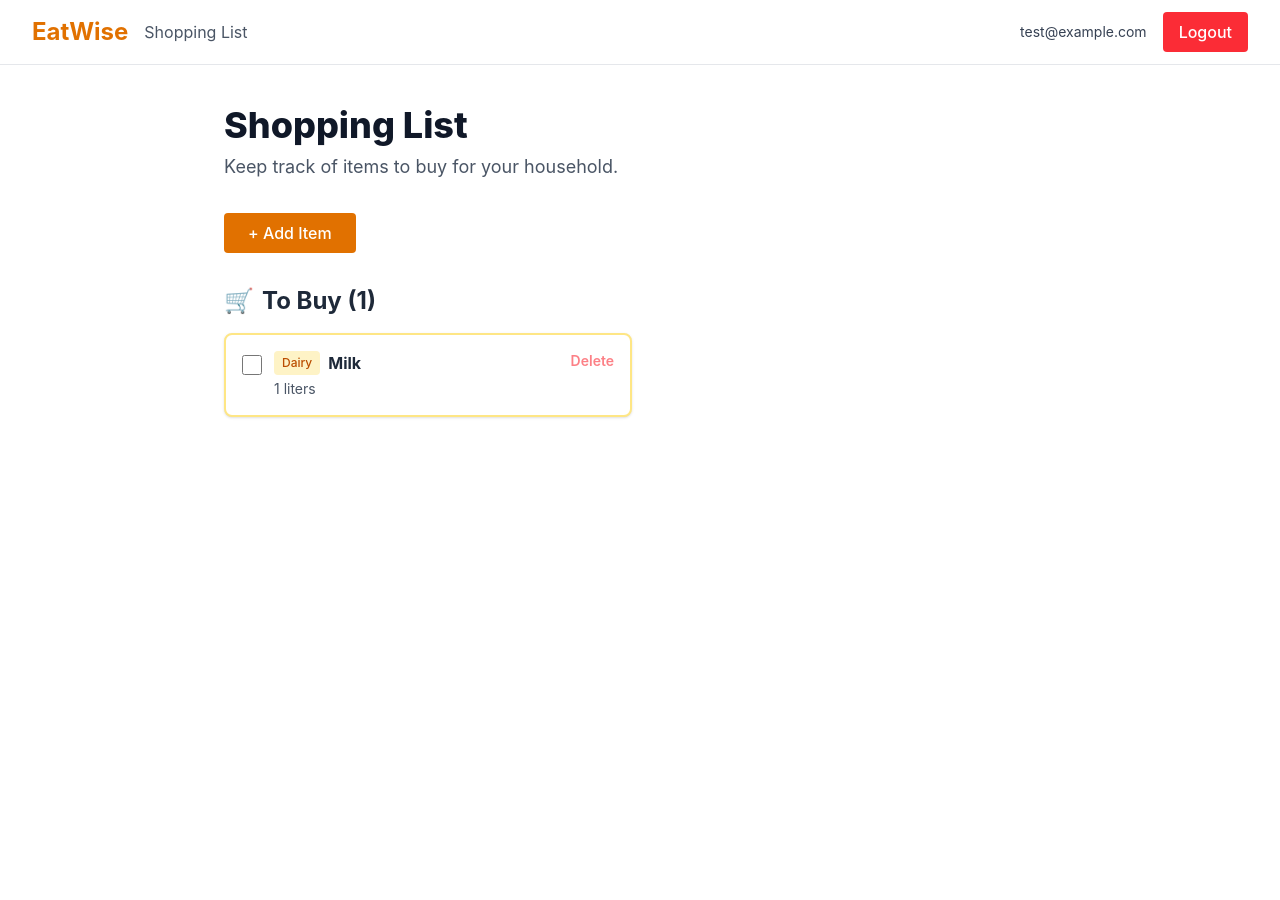
Test: ShoppingList › should show success message when marking item as purchased
The image size is (1280, 900).
Click the checkbox at (252, 365), box [242, 355, 262, 375]
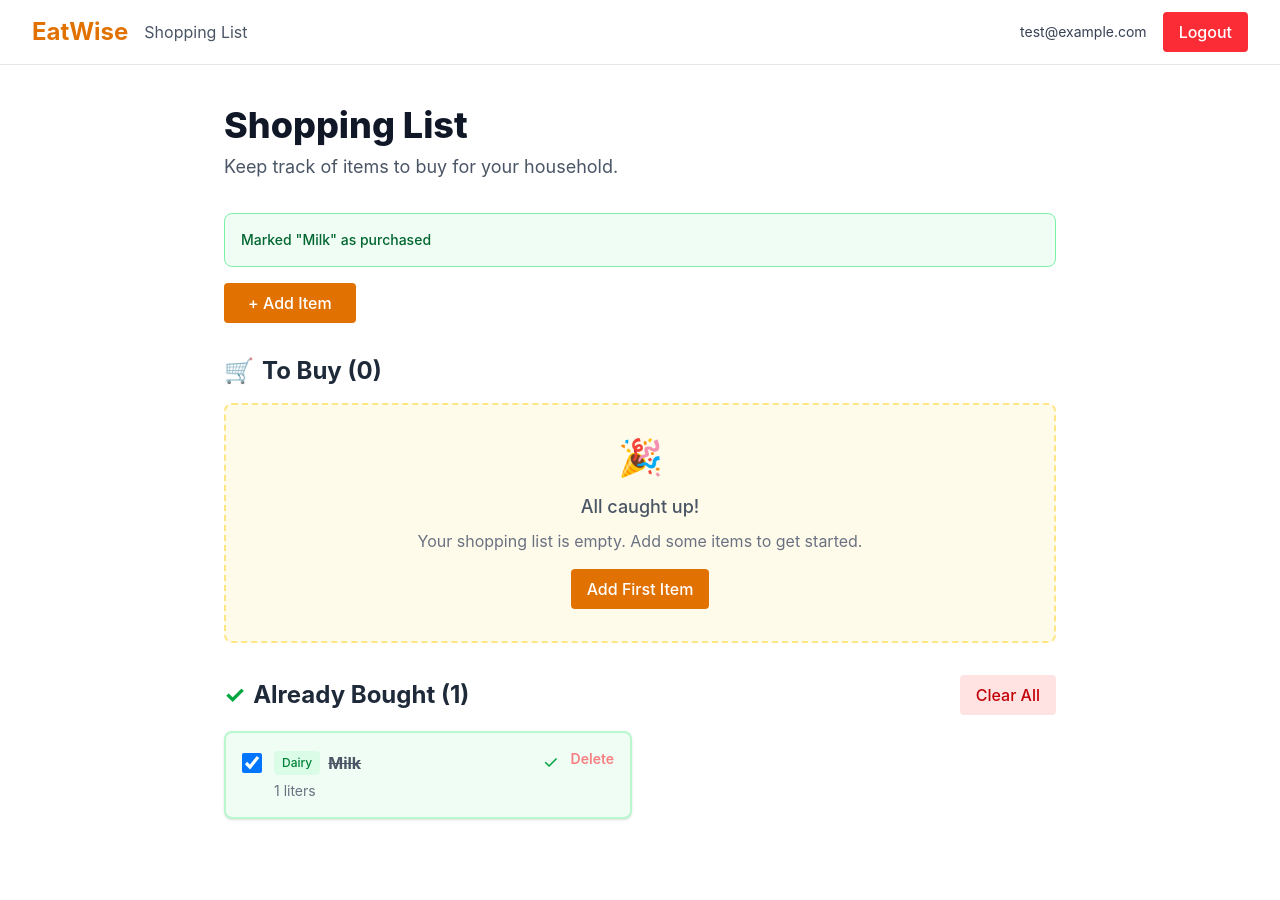
Now the text "Marked \"Milk\" as purchased" is shown, box [224, 213, 1056, 267]
